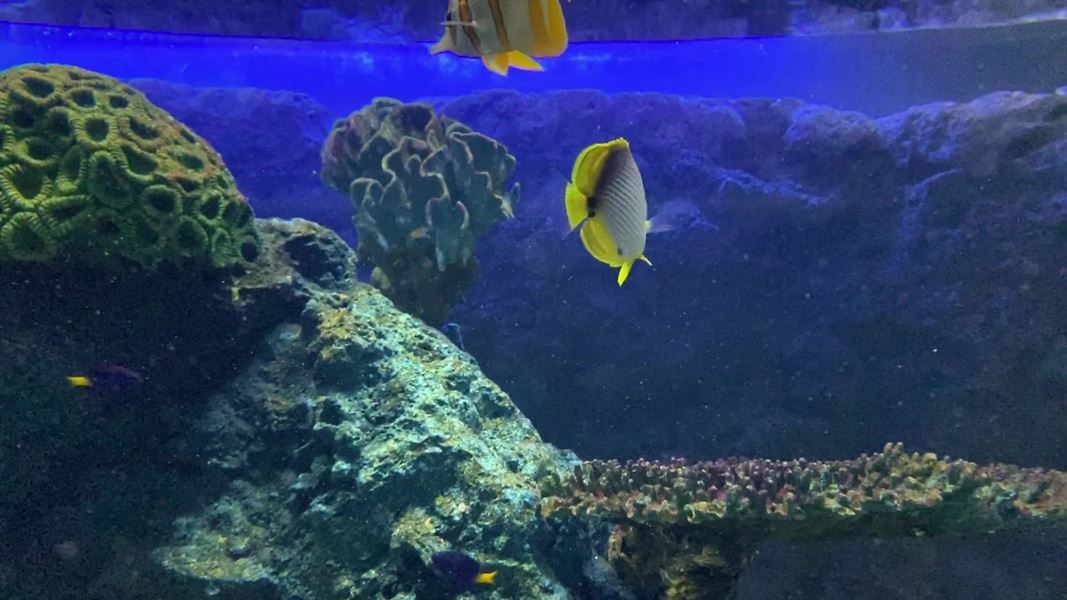Black-backed butterflyfish: (544, 127, 699, 296)
